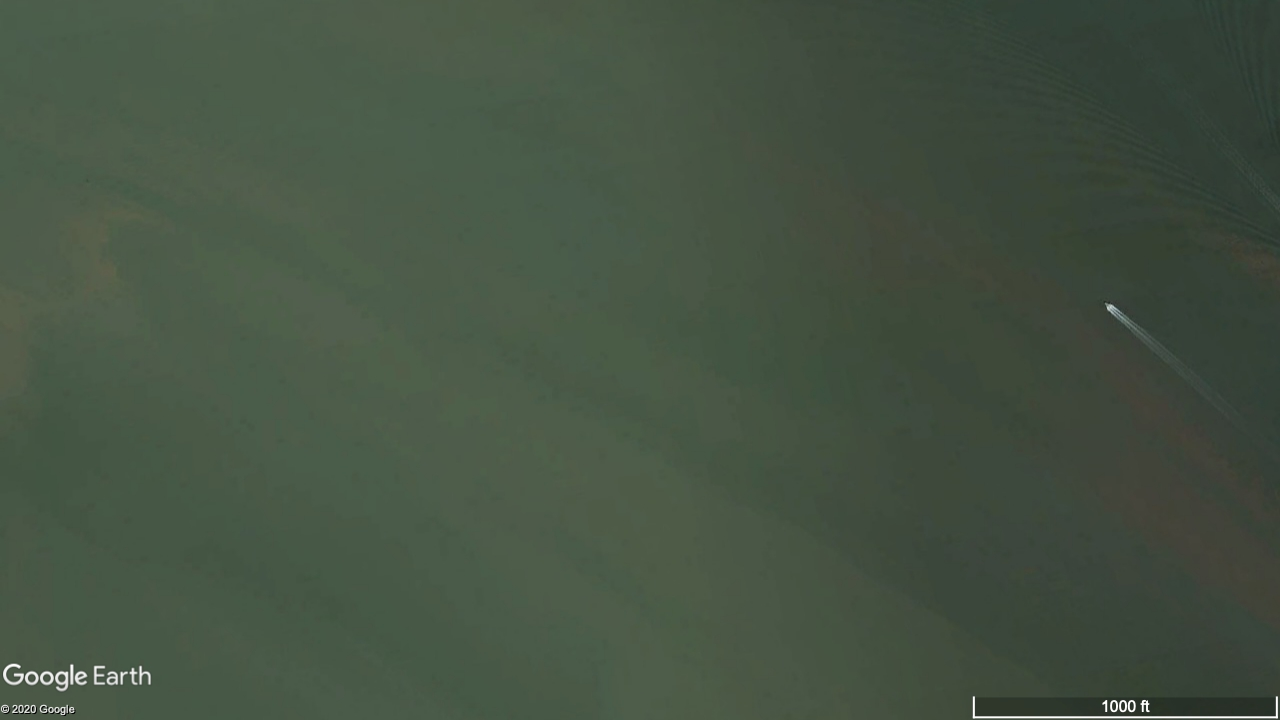boat: (1103, 301, 1111, 308)
